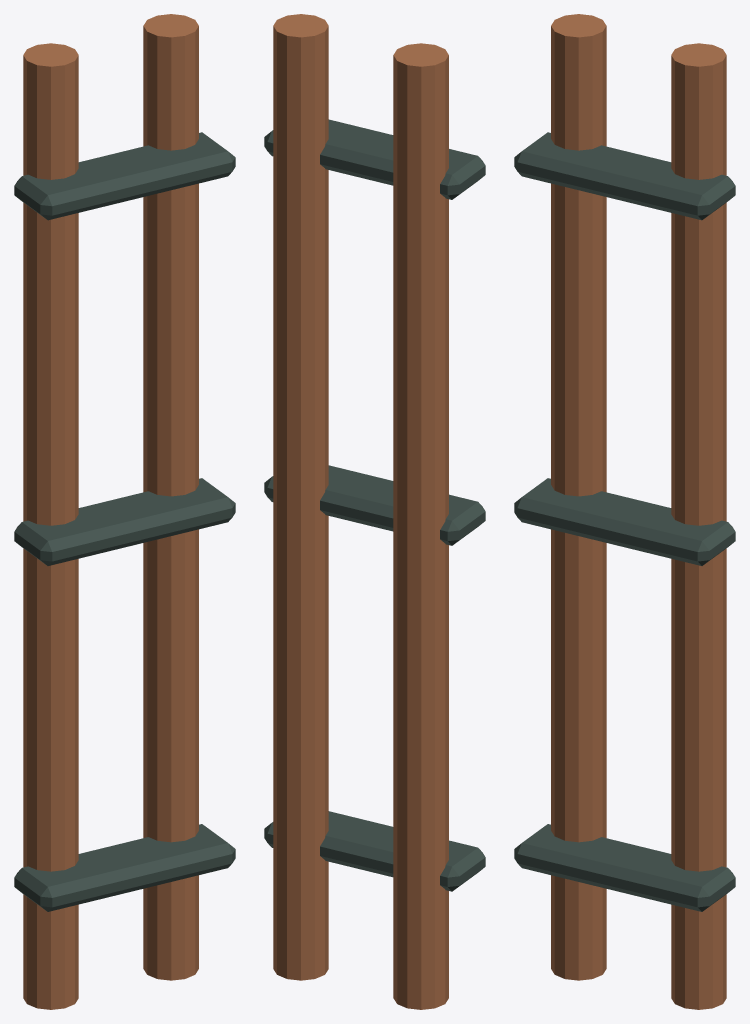
File: alley_pipe.glb
3 views of the same model, side by side, from view 1: azimuth 30°, elevation 25°; view 2: azimuth 150°, elevation 25°; view 3: azimuth 330°, elevation 25° (orthographic).
Parts seen in each view (by area): view 1: alley_pipe.001; view 2: alley_pipe.001; view 3: alley_pipe.001.
Boxes of the visible parts, left/top/right/bottom form: alley_pipe.001: left=14, top=14, right=235, bottom=1009; alley_pipe.001: left=264, top=14, right=485, bottom=1009; alley_pipe.001: left=514, top=14, right=735, bottom=1009.
Bounding box in the file's own units: 0.65 × 3 × 0.26.
